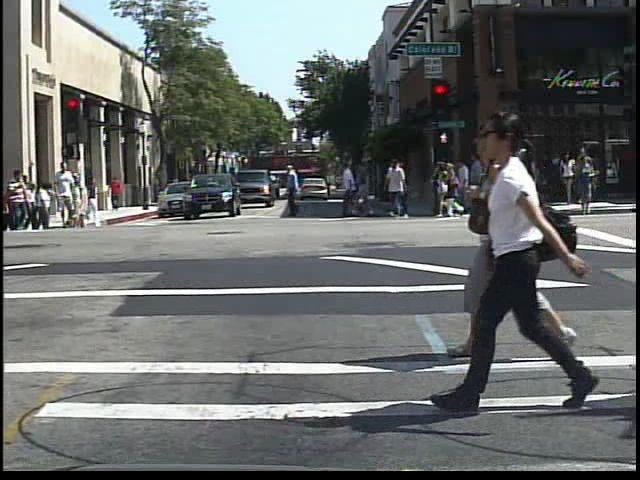person: (467, 103, 578, 415), (439, 114, 525, 355), (515, 143, 548, 213), (51, 162, 80, 231), (8, 164, 32, 233), (107, 175, 127, 213), (168, 171, 186, 203)
